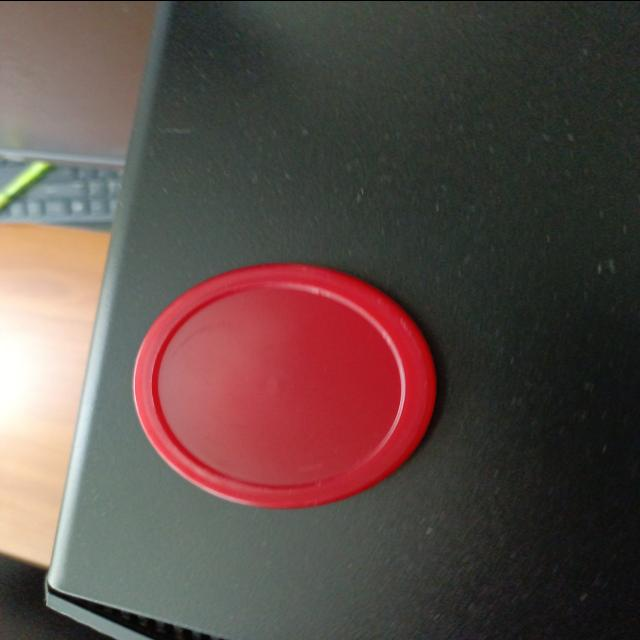chip: (130, 262, 435, 507)
